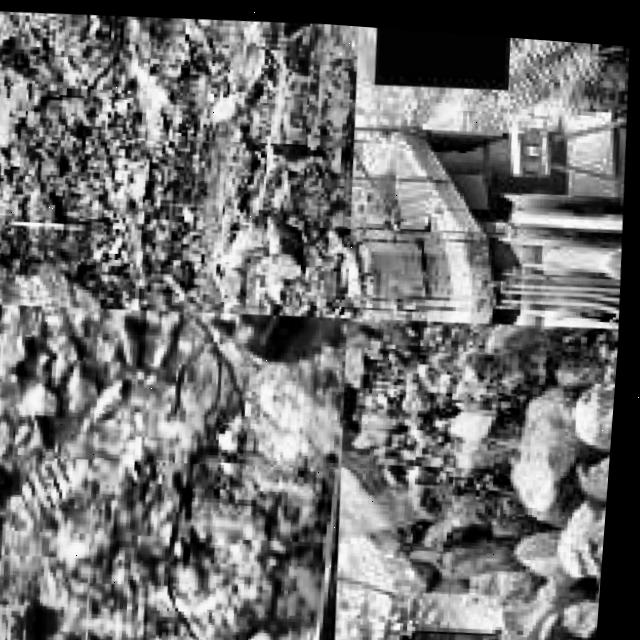buldozerpayloadergrader: (341, 21, 639, 324)
excavator: (331, 302, 624, 640)
